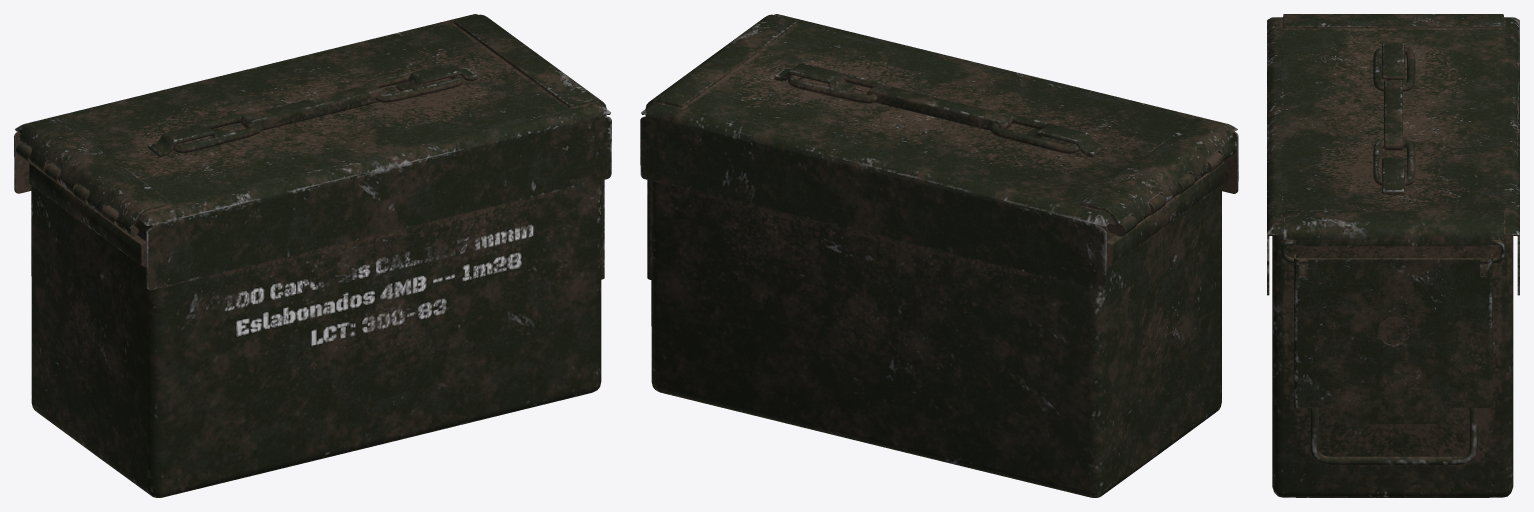
File: caja_de_municion.glb
The picture shows the model from 3 angles, left to right: view 1: azimuth 30°, elevation 25°; view 2: azimuth 150°, elevation 25°; view 3: azimuth 270°, elevation 25°; orthographic projection. The views are drawn at different scales.
Parts seen in each view (by area): view 1: Cubo, Cubo_006, Cubo_003, C__rculo_Bezier, Plano_002, Cilindro_001; view 2: Cubo, Cubo_006, Cubo_003, C__rculo_Bezier, Plano_002, Cilindro_001; view 3: Cubo_006, Cubo_002, Cubo, Curva_Bezier_001, Plano_002, C__rculo_Bezier, Cubo_003, Curva_Bezier.
Part boxes in pixels (x1,y1,x2,y2): Cubo: [29, 162, 601, 497]; Cubo_006: [14, 14, 611, 290]; Cubo_003: [240, 84, 385, 130]; C__rculo_Bezier: [172, 66, 463, 153]; Plano_002: [148, 63, 477, 156]; Cilindro_001: [16, 142, 138, 234]; Cubo: [651, 151, 1224, 497]; Cubo_006: [640, 14, 1238, 290]; Cubo_003: [867, 84, 1012, 130]; C__rculo_Bezier: [788, 72, 1079, 153]; Plano_002: [774, 63, 1104, 156]; Cilindro_001: [1107, 152, 1223, 236]; Cubo_006: [1267, 14, 1519, 295]; Cubo_002: [1294, 254, 1492, 424]; Cubo: [1272, 235, 1513, 497]; Curva_Bezier_001: [1310, 408, 1477, 464]; Plano_002: [1382, 42, 1404, 194]; C__rculo_Bezier: [1373, 47, 1415, 185]; Cubo_003: [1384, 79, 1402, 150]; Curva_Bezier: [1281, 240, 1505, 263].
Bounding box in the file's own units: 3.56 × 2.13 × 1.7.
Materials: 1 (1 with a texture image).
